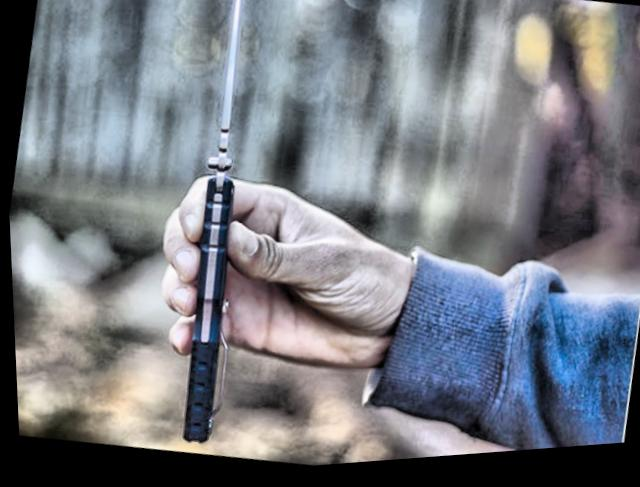knife: (109, 0, 296, 455)
